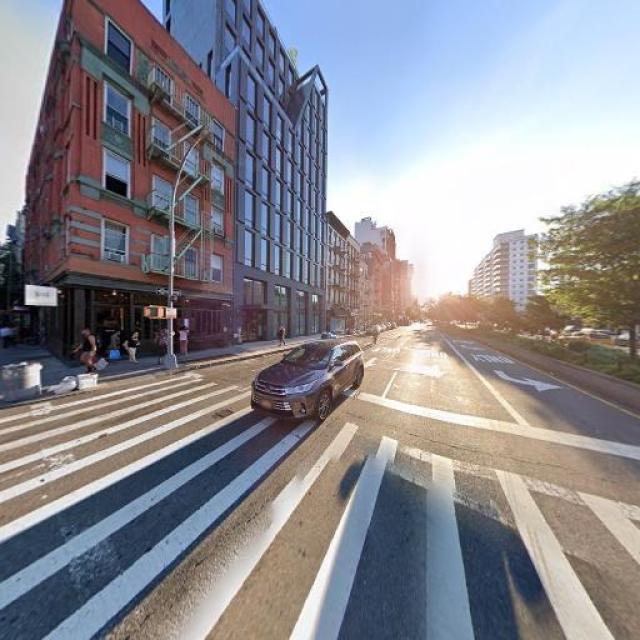Building: (74, 1, 230, 373), (233, 1, 325, 349)
